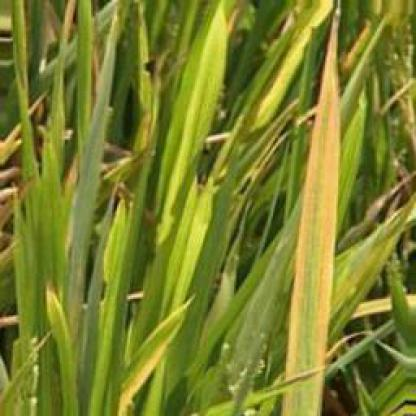Tungro: (285, 16, 357, 416), (148, 3, 229, 268), (119, 293, 191, 407), (248, 11, 323, 118), (170, 173, 217, 292), (40, 274, 87, 360), (104, 175, 130, 279)
